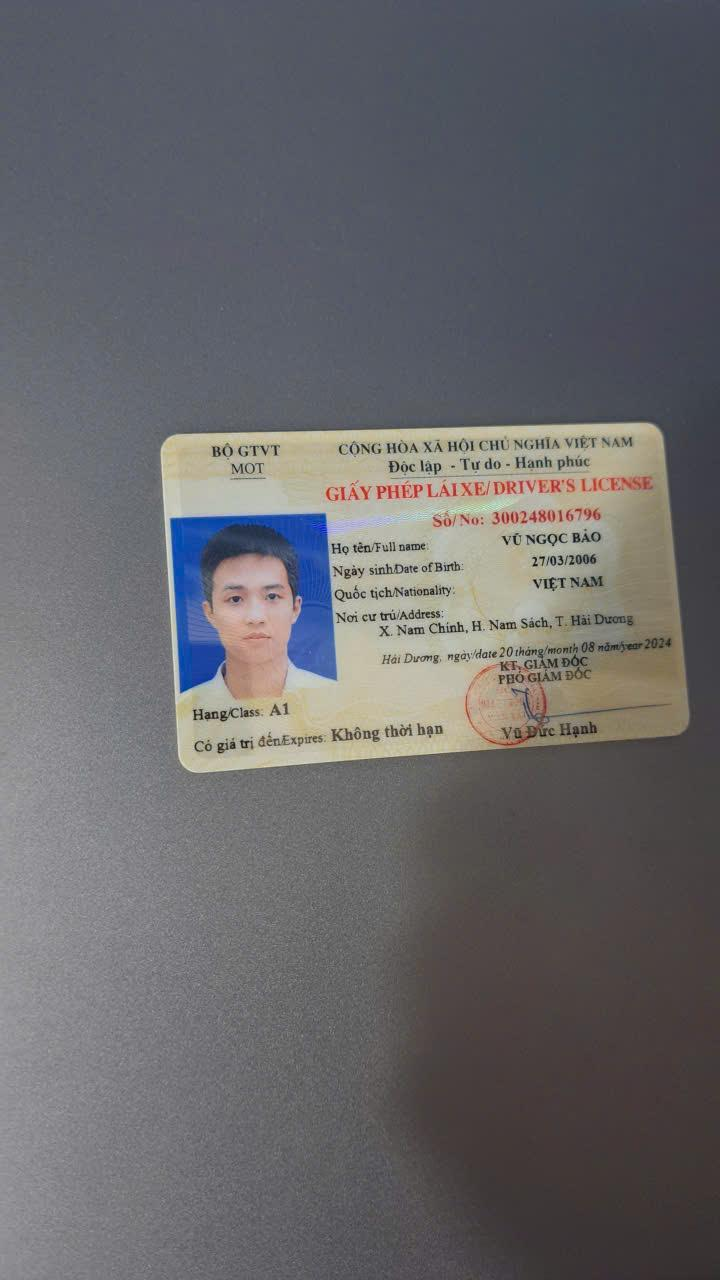gplx: (136, 415, 698, 778)
